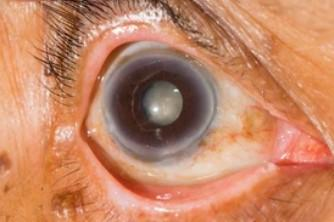eye: (102, 50, 217, 162)
